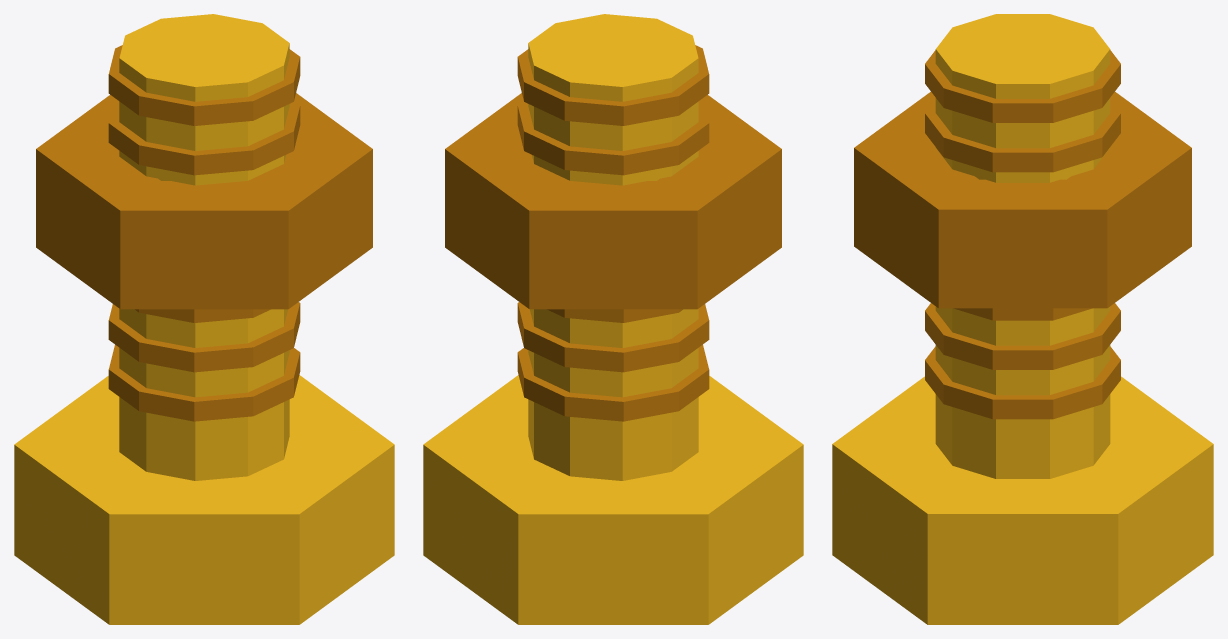
The model's file is item_bolt_gold.fbx.
3 views of the same model, side by side, from view 1: azimuth 30°, elevation 25°; view 2: azimuth 150°, elevation 25°; view 3: azimuth 270°, elevation 25° (orthographic).
Parts seen in each view (by area): view 1: item_bolt_gold; view 2: item_bolt_gold; view 3: item_bolt_gold.
Part boxes in pixels (x1,y1,x2,y2): item_bolt_gold: (14,14,394,624); item_bolt_gold: (423,14,803,624); item_bolt_gold: (832,14,1213,624).
Size of the model in its own units: 1.21 by 2.05 by 1.4.
